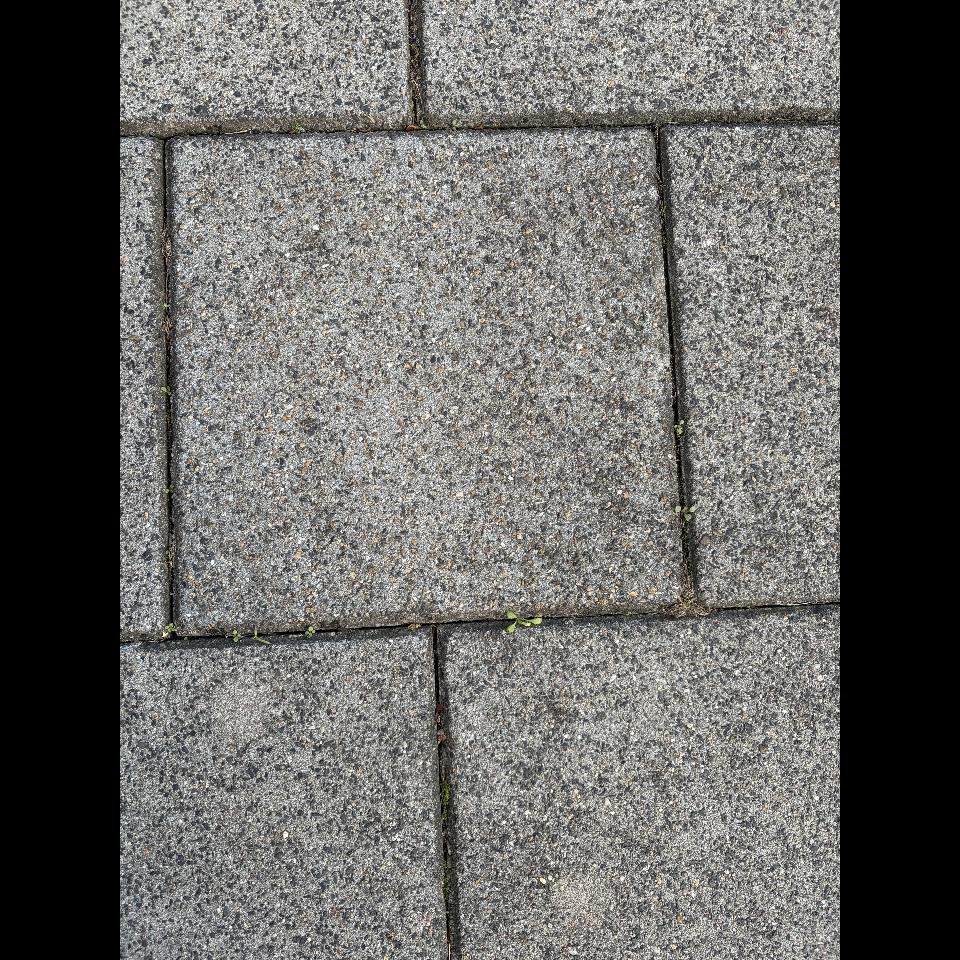weed: (505, 611, 542, 634), (254, 627, 270, 645), (682, 506, 696, 523), (674, 419, 684, 437), (164, 623, 176, 635), (232, 630, 242, 643), (446, 120, 456, 133), (306, 625, 316, 636), (161, 386, 171, 397), (295, 122, 304, 134), (165, 484, 173, 494), (163, 303, 170, 311), (676, 506, 683, 513), (183, 636, 190, 642), (420, 124, 426, 129), (663, 238, 666, 247), (262, 641, 269, 644), (165, 550, 169, 554)
